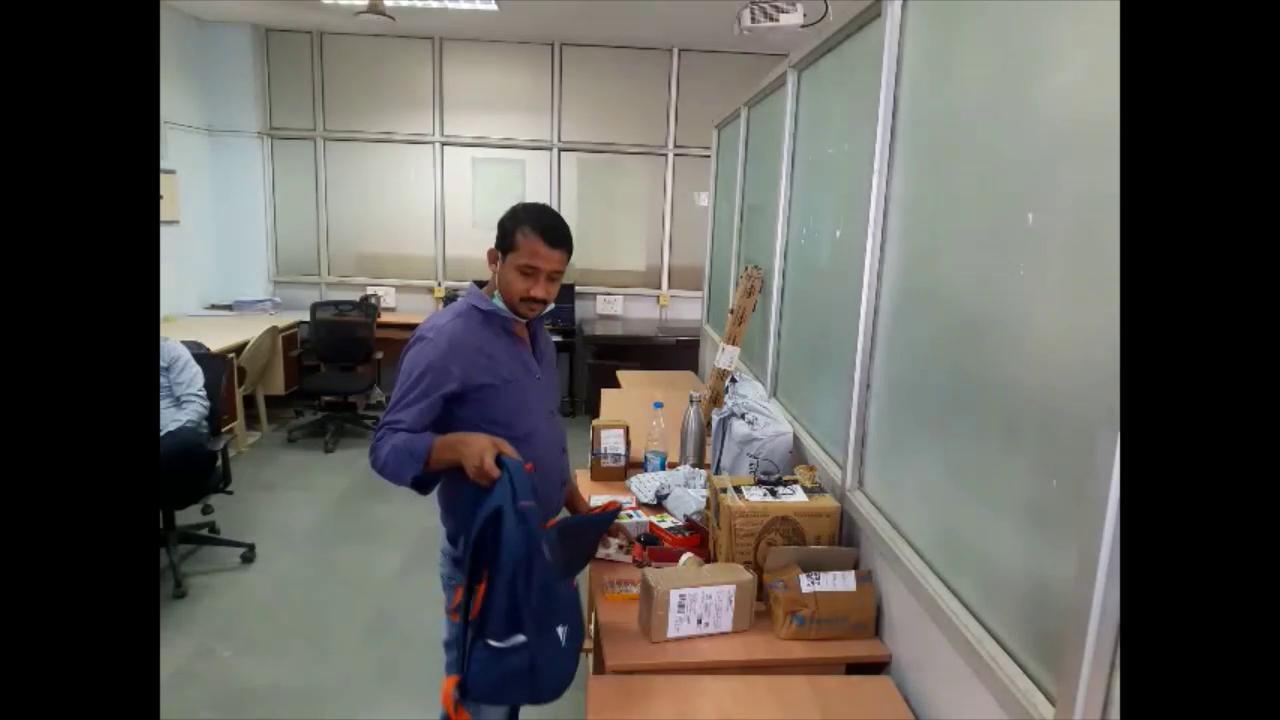shoplifting: (362, 195, 630, 720)
